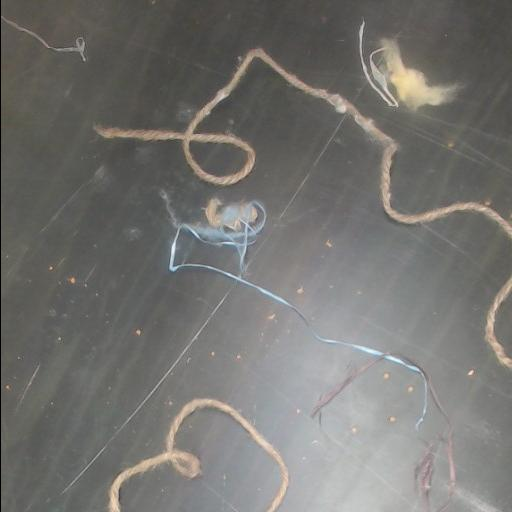conveyor belt: (1, 0, 512, 511), (121, 409, 279, 511), (191, 143, 245, 174), (495, 292, 512, 356)
cotton: (380, 40, 460, 111)
jute: (97, 48, 512, 239), (108, 398, 288, 511), (485, 274, 512, 367)
thread: (169, 240, 430, 428), (311, 351, 455, 498), (163, 194, 265, 273), (1, 15, 85, 60), (358, 20, 397, 106), (415, 444, 432, 511)
